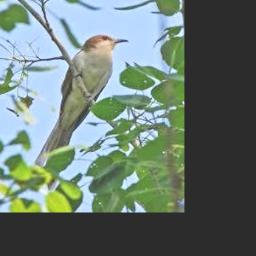Cuckoo: (33, 34, 129, 189)
